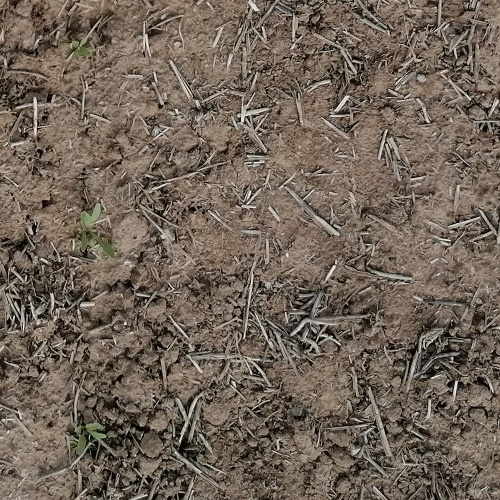beet: (80, 204, 116, 259), (77, 422, 108, 453), (71, 39, 91, 57)
